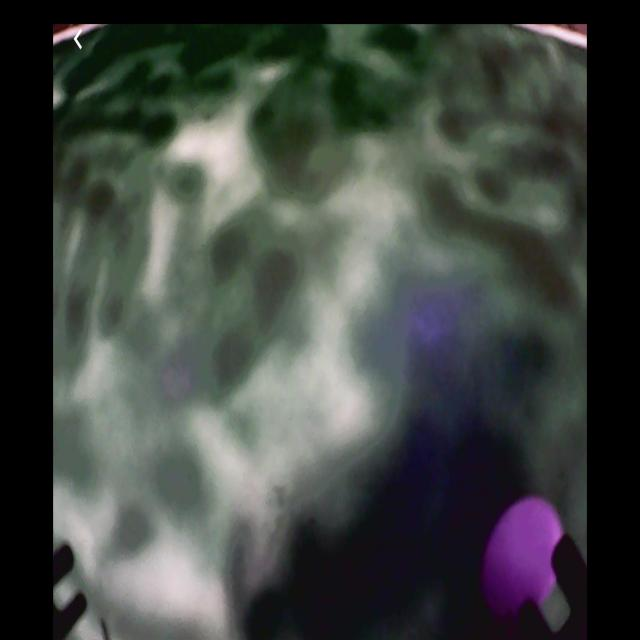ball: (481, 494, 564, 619)
